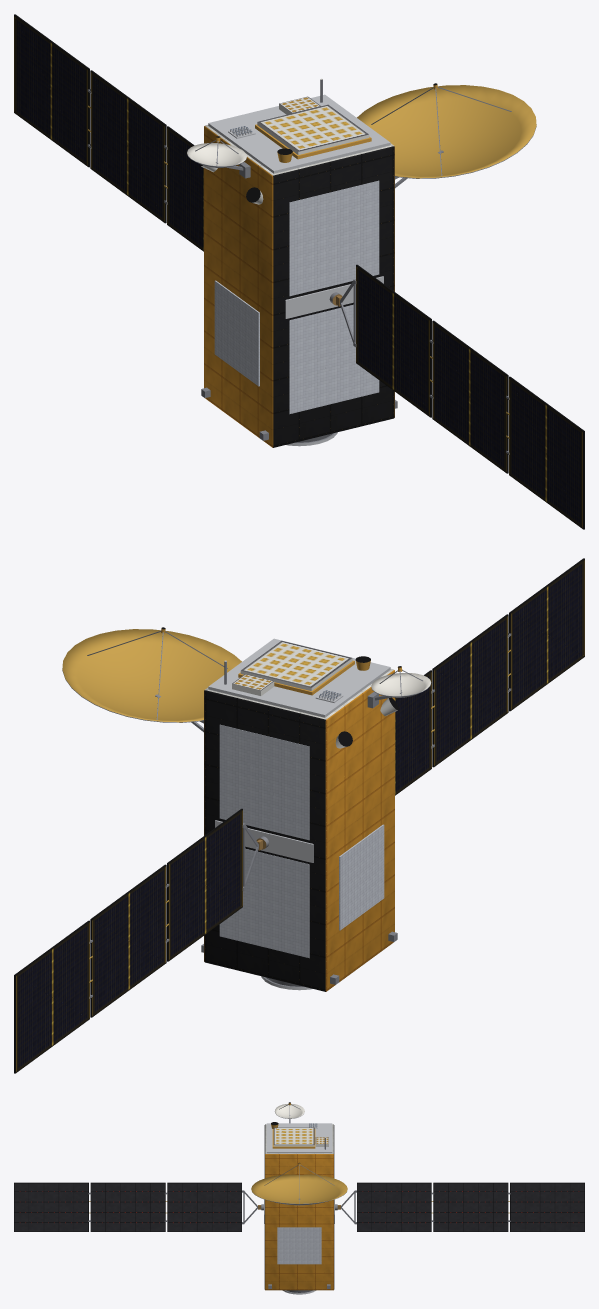
File: qzss-geo.glb
3 renders of one model, top to bottom at view 1: azimuth 30°, elevation 25°; view 2: azimuth 150°, elevation 25°; view 3: azimuth 270°, elevation 25°, orthographic. The views are drawn at different scales.
Visible parts, largest first — view 1: bus, wing-Y, wing+Y, reflectors, nadir_patches; view 2: bus, wing+Y, wing-Y, reflectors, nadir_patches; view 3: wing+Y, wing-Y, bus, reflectors, nadir_patches.
Boxes of the visible parts, box(x1,y1,x2,y2) form: bus: box(200, 125, 397, 447); wing-Y: box(336, 264, 584, 529); wing+Y: box(14, 14, 203, 251); reflectors: box(187, 83, 536, 188); nadir_patches: box(208, 78, 390, 173); bus: box(201, 669, 398, 991); wing+Y: box(14, 808, 262, 1073); wing-Y: box(395, 558, 584, 795); reflectors: box(62, 627, 431, 732); nadir_patches: box(208, 638, 390, 717); wing+Y: box(337, 1182, 584, 1231); wing-Y: box(14, 1182, 261, 1231); bus: box(264, 1124, 334, 1294); reflectors: box(251, 1102, 347, 1205); nadir_patches: box(266, 1122, 332, 1153).
Bounding box in the file's own units: 6.57 × 5.92 × 18.92.
20 materials, 8 textured.
